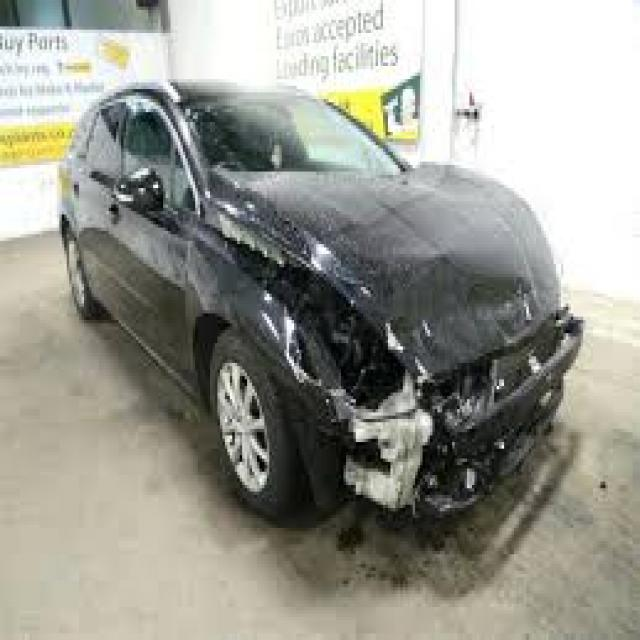moderate: (183, 194, 522, 482)
